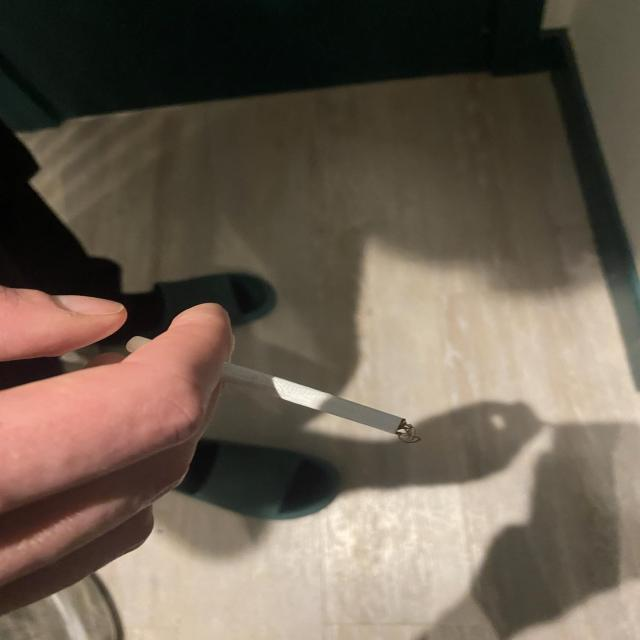rokok: (122, 334, 424, 446)
